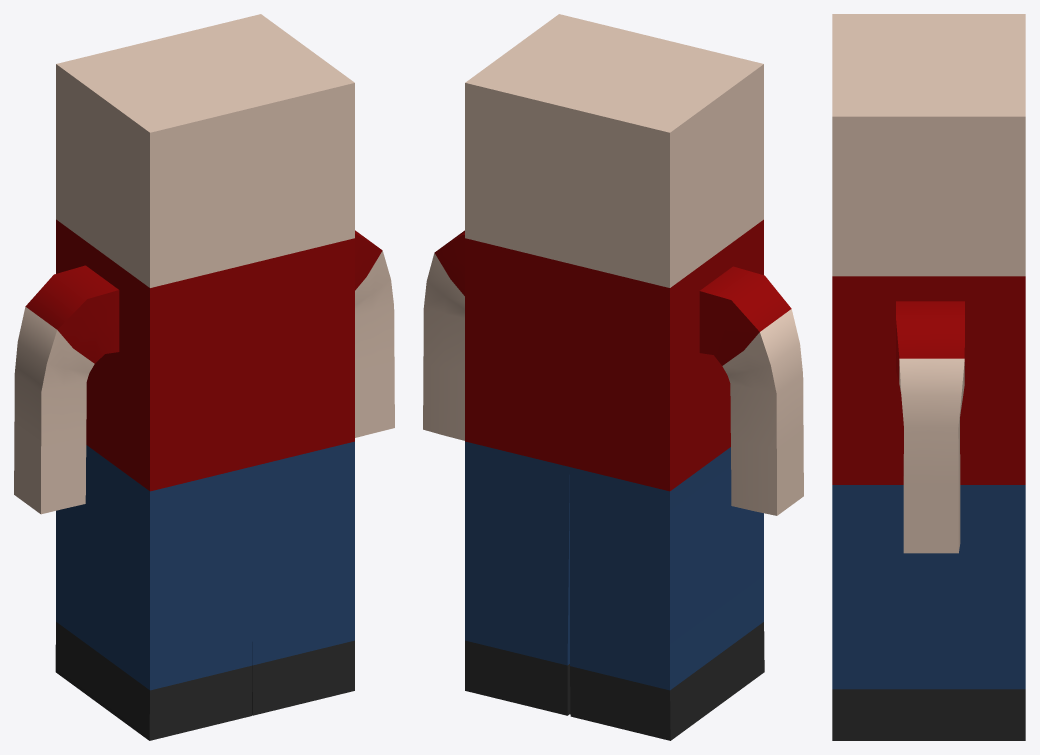
Rendered from NPC.fbx.
3 renders of one model, left to right at view 1: azimuth 30°, elevation 25°; view 2: azimuth 150°, elevation 25°; view 3: azimuth 270°, elevation 25°, orthographic. The views are drawn at different scales.
Parts seen in each view (by area): view 1: pCube1; view 2: pCube1; view 3: pCube1.
Part boxes in pixels (<box>): pCube1: <box>14,14,394,740</box>; pCube1: <box>423,14,803,740</box>; pCube1: <box>832,14,1025,740</box>.
Size of the model in its own units: 2.55 by 4.18 by 1.17.
